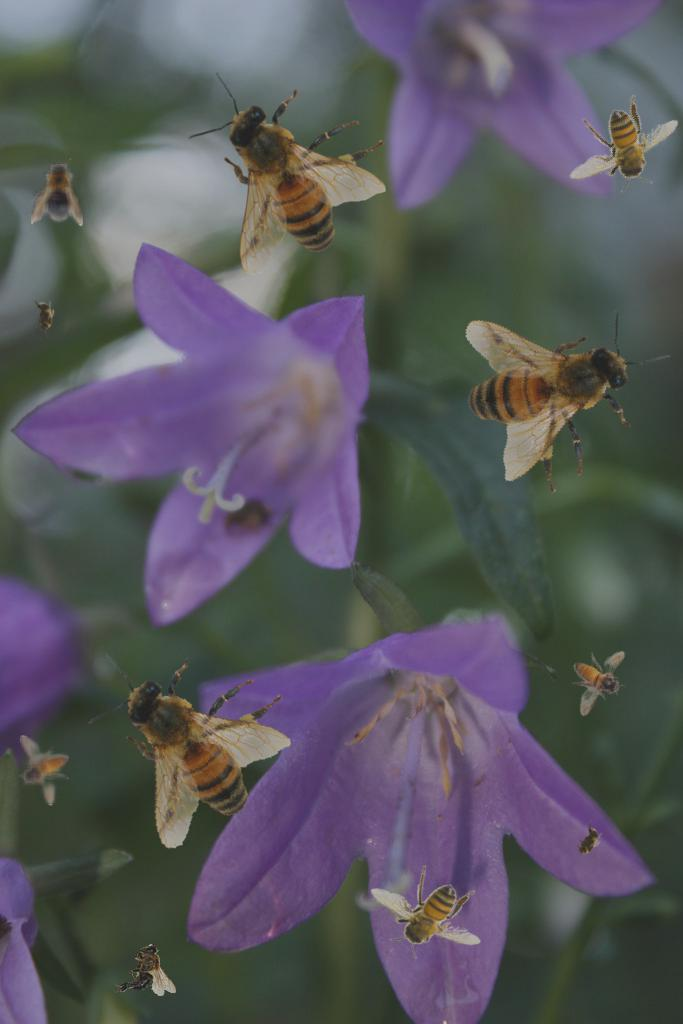Bee: (424, 264, 681, 518), (76, 626, 305, 860), (187, 72, 386, 276), (549, 74, 683, 220), (370, 865, 481, 959), (555, 636, 643, 719), (19, 735, 69, 806), (31, 158, 83, 226), (114, 943, 176, 996), (567, 819, 609, 865), (33, 297, 55, 337)
